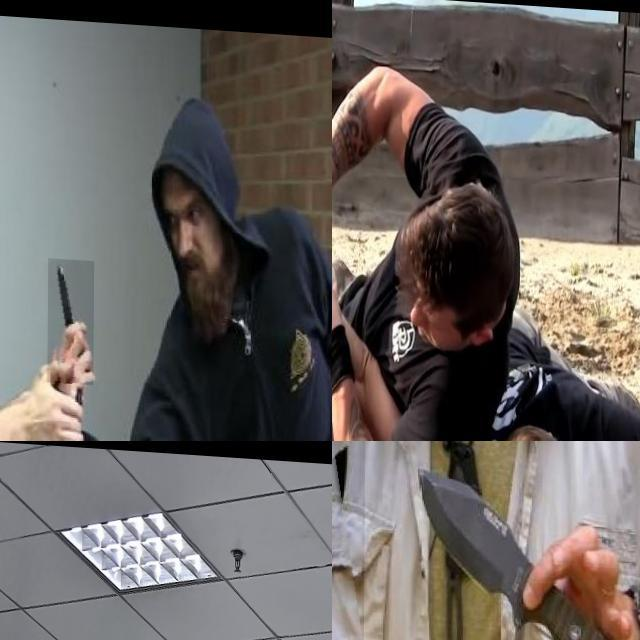-: (410, 453, 633, 640), (332, 441, 410, 640), (332, 89, 376, 252), (48, 254, 94, 380)
